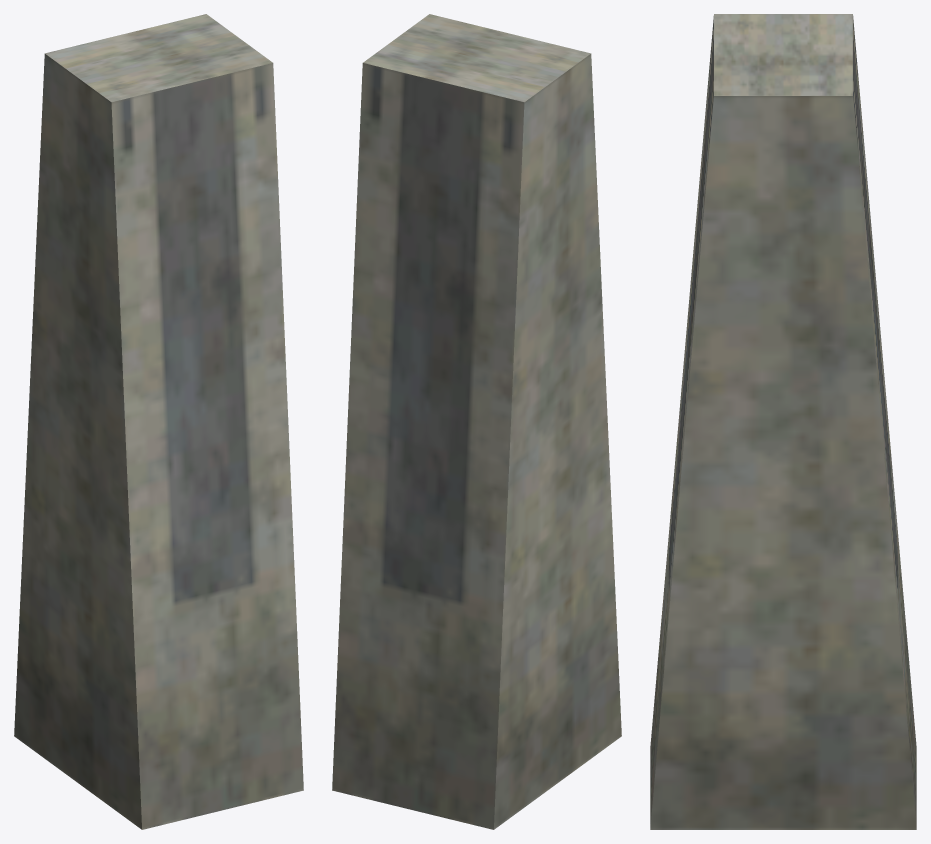
The model's file is thm_corl_imprv_column_s03_l2.fbx.
3 renders of one model, left to right at view 1: azimuth 30°, elevation 25°; view 2: azimuth 150°, elevation 25°; view 3: azimuth 270°, elevation 25°, orthographic. The views are drawn at different scales.
Parts seen in each view (by area): view 1: mesh_node; view 2: mesh_node; view 3: mesh_node.
Part boxes in pixels (x1=…): mesh_node: x1=14, y1=14, x2=303, y2=829; mesh_node: x1=332, y1=14, x2=621, y2=829; mesh_node: x1=650, y1=14, x2=916, y2=829.
Bounding box in the file's own units: 1.2 × 5 × 1.64.
1 material, 1 textured.
